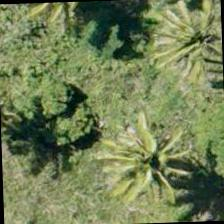Kelapa_Sawit: (107, 112, 200, 205), (156, 4, 224, 96)
